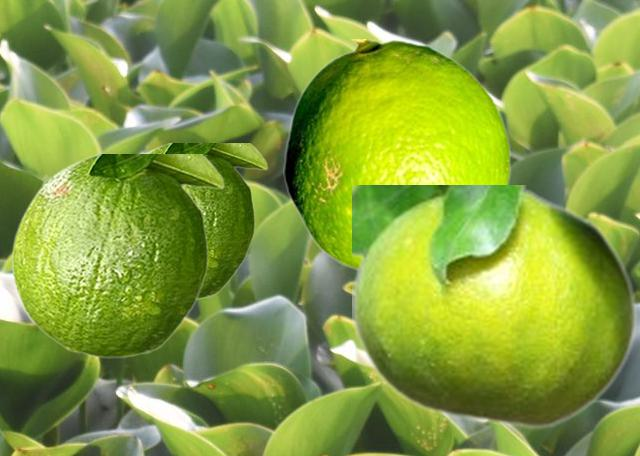dalandan: (352, 185, 637, 429), (283, 39, 510, 272), (11, 154, 224, 357), (142, 143, 267, 300)
